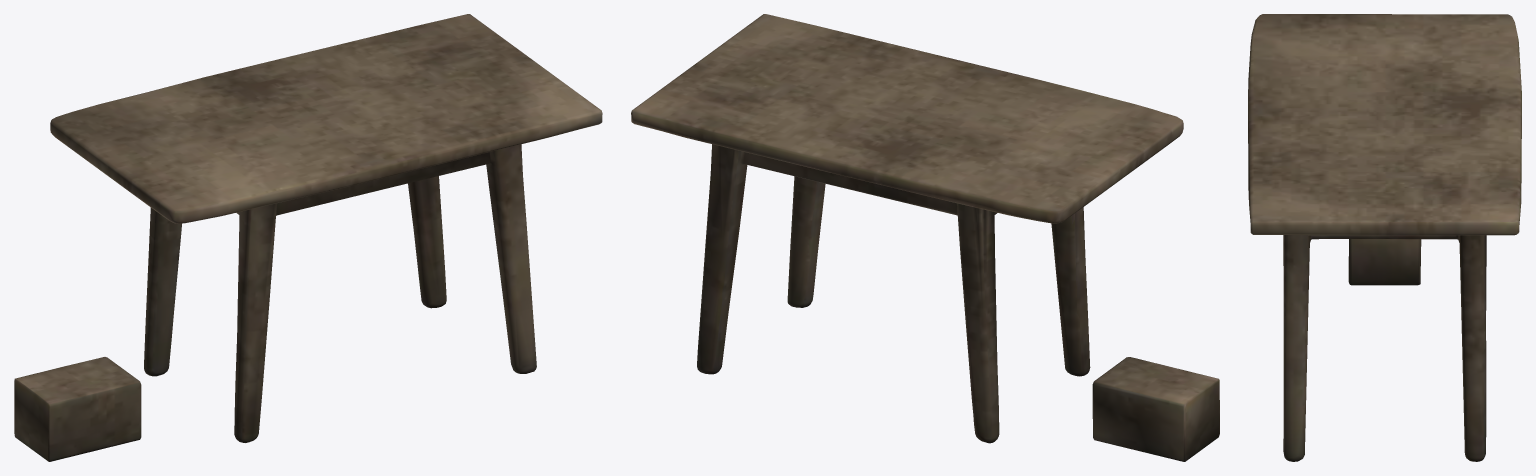
Rendered from sturdy-wood-table-v001.glb.
3 renders of one model, left to right at view 1: azimuth 30°, elevation 25°; view 2: azimuth 150°, elevation 25°; view 3: azimuth 270°, elevation 25°, orthographic.
Visible parts, largest first — view 1: sturdy-wood-table; view 2: sturdy-wood-table; view 3: sturdy-wood-table.
Boxes of the visible parts, left/top/right/bottom form: sturdy-wood-table: left=14, top=14, right=602, bottom=461; sturdy-wood-table: left=631, top=14, right=1219, bottom=461; sturdy-wood-table: left=1248, top=14, right=1521, bottom=461.
Size of the model in its own units: 1.51 by 0.7594 by 0.7048.
Materials: 1 (1 with a texture image).
